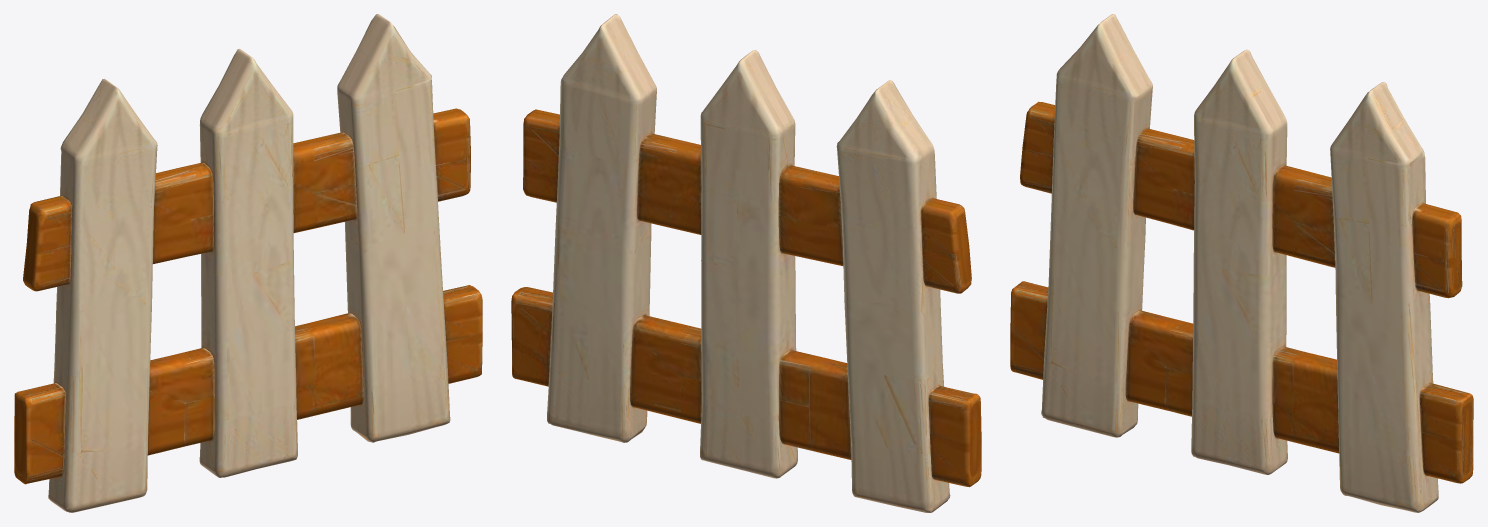
File: fence.glb
The picture shows the model from 3 angles, left to right: view 1: azimuth 30°, elevation 25°; view 2: azimuth 150°, elevation 25°; view 3: azimuth 330°, elevation 25°; orthographic projection.
Size of the model in its own units: 1 by 0.8698 by 0.0947.
1 material, 1 textured.
